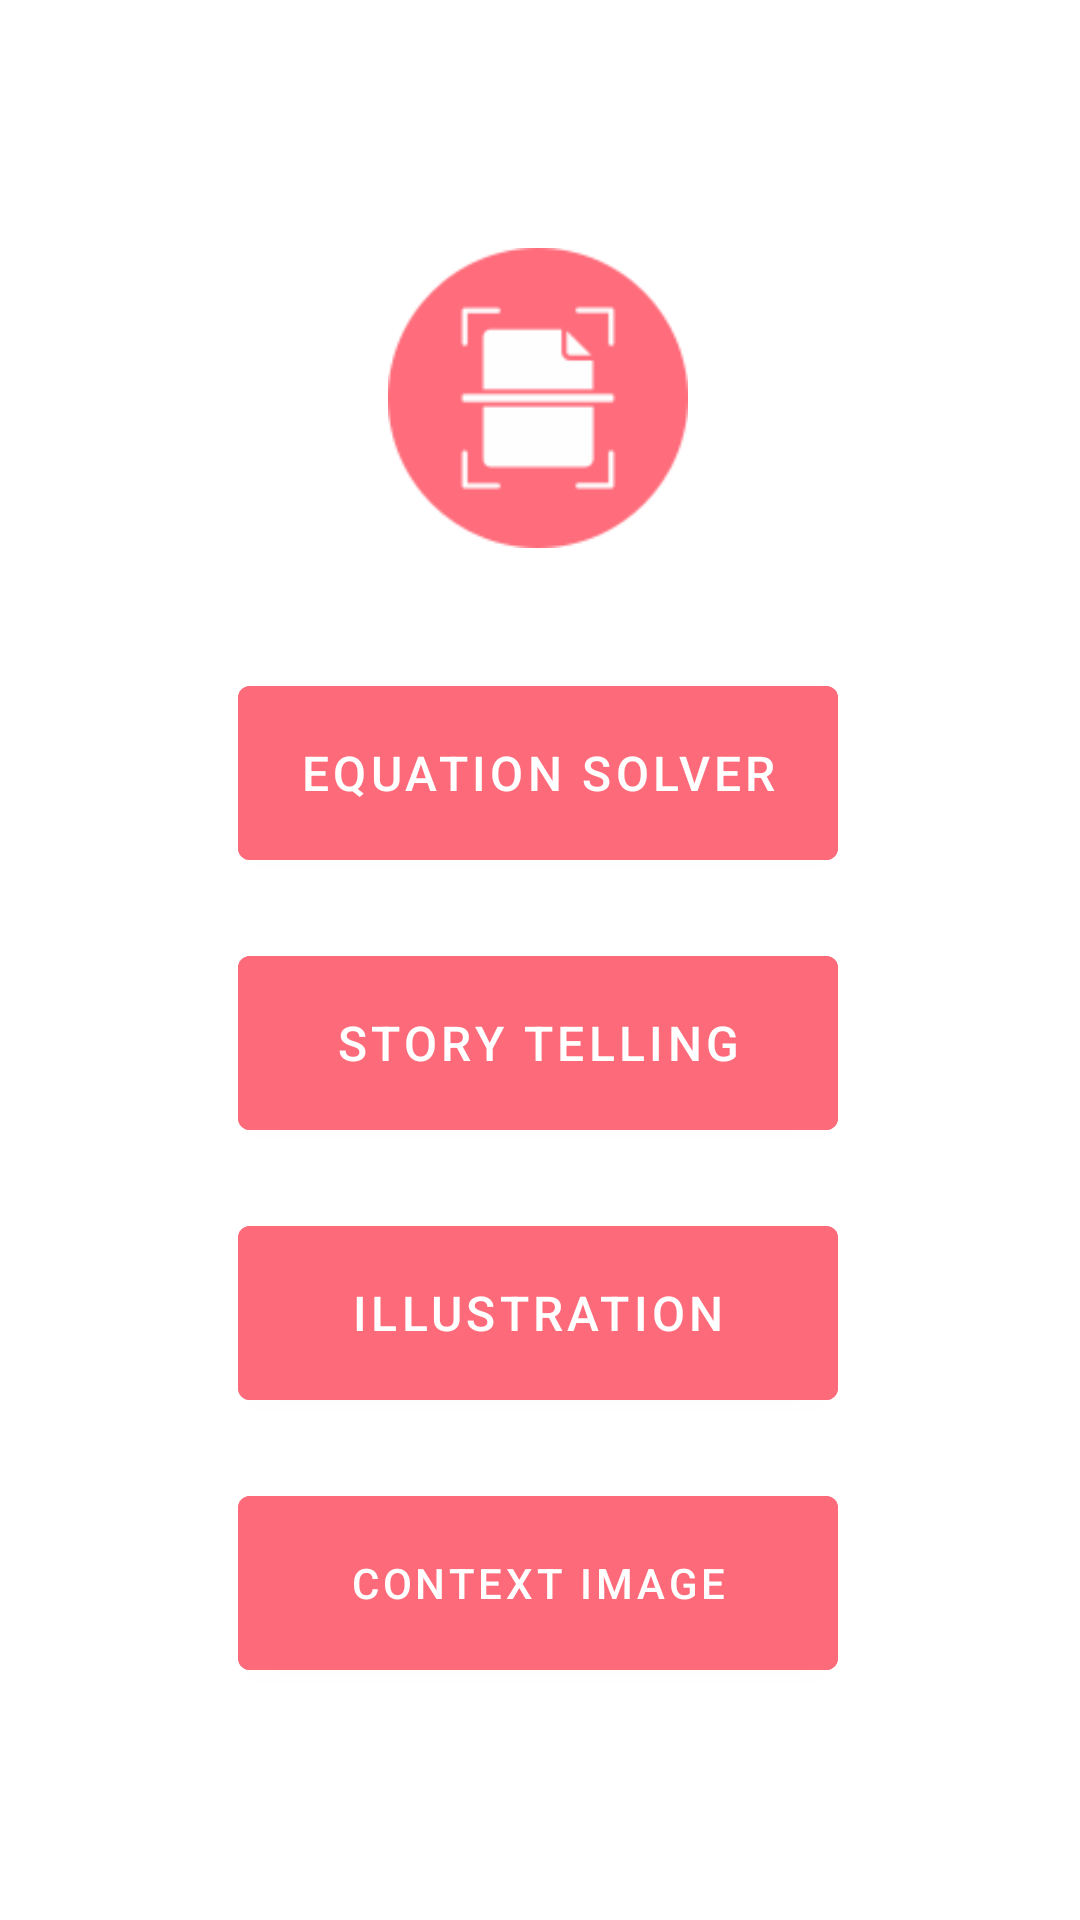

Named icons in this screenshot (1080px x 1920px) and their bounding boxes, (x1, y1, x2, y2):
scanner: (388, 248, 688, 548)
